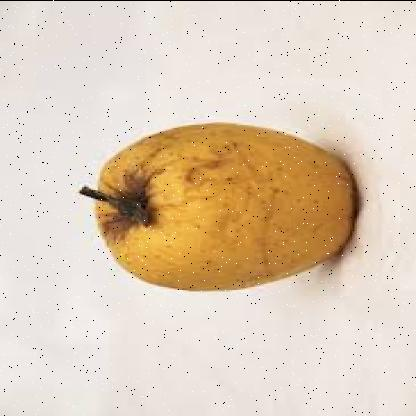damaged_apple: (87, 120, 357, 296)
